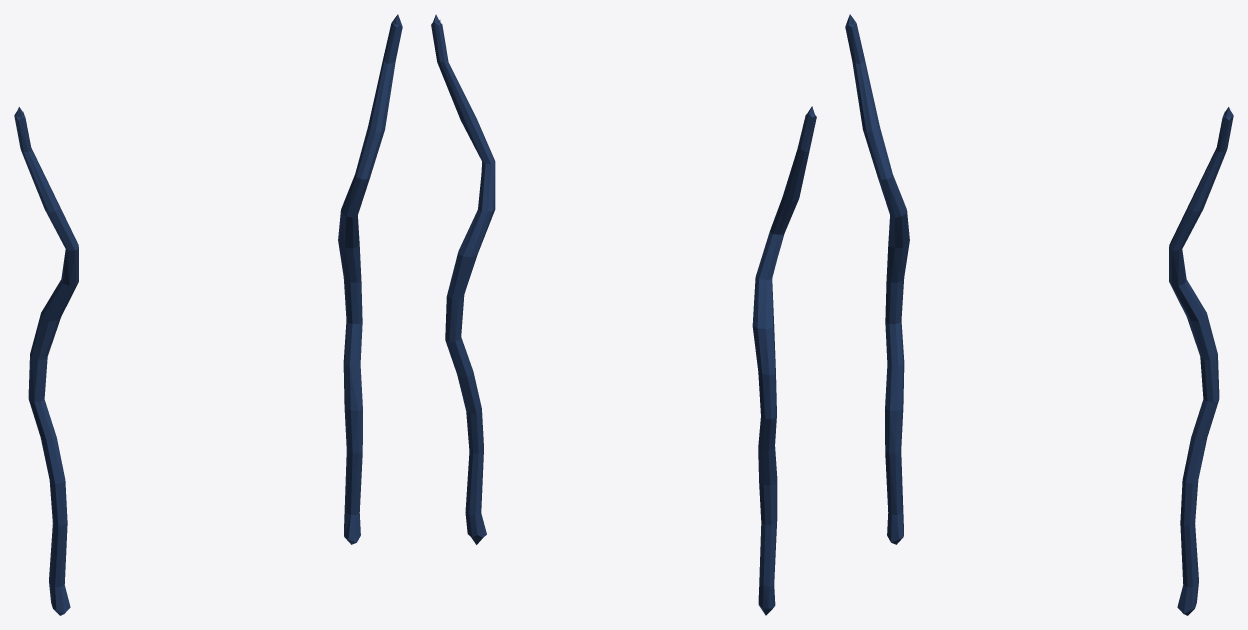
Rendered from Vena Yugular Externa.FBX.
3 renders of one model, left to right at view 1: azimuth 30°, elevation 25°; view 2: azimuth 150°, elevation 25°; view 3: azimuth 330°, elevation 25°, orthographic.
Parts seen in each view (by area): view 1: CS_Veins; view 2: CS_Veins; view 3: CS_Veins.
Boxes of the visible parts, box(x1,y1,x2,y2) form: CS_Veins: box(14, 14, 402, 615); CS_Veins: box(431, 14, 816, 615); CS_Veins: box(845, 14, 1233, 615).
Bounding box in the file's own units: 353 × 456 × 46.78.
